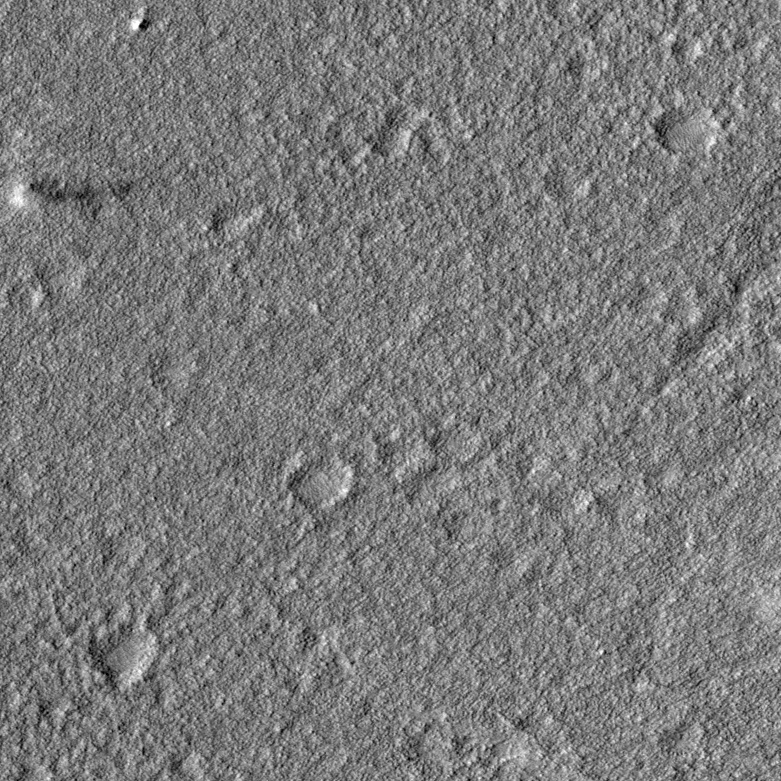dust_devil: (7, 176, 128, 209)
